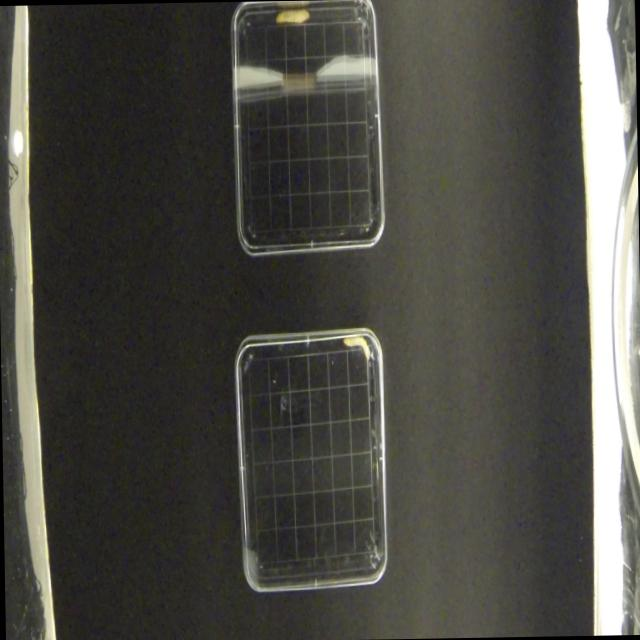larva: (274, 6, 308, 26), (342, 336, 371, 358)
